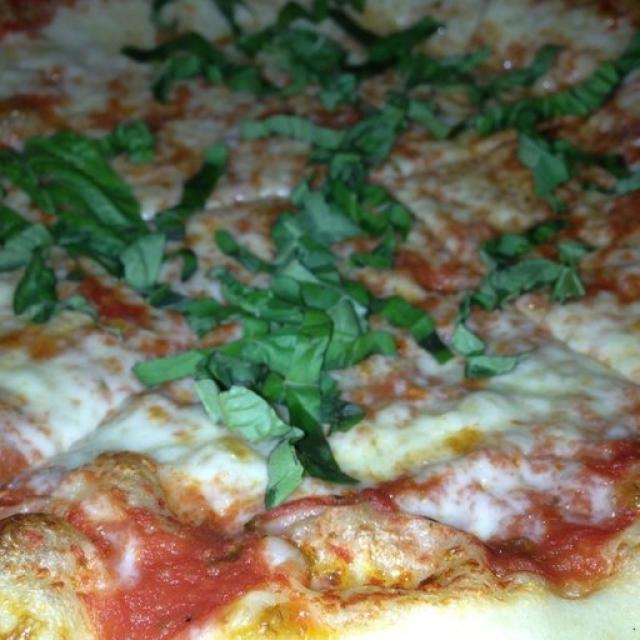Basil: (253, 126, 392, 282), (0, 130, 139, 285), (210, 304, 320, 481), (153, 35, 376, 116), (396, 57, 598, 122), (478, 232, 582, 305), (150, 162, 230, 256), (329, 291, 427, 358), (520, 131, 580, 193), (10, 263, 60, 326)
Cheese: (356, 388, 601, 516), (41, 362, 186, 488), (21, 5, 117, 109), (432, 0, 618, 29)
Pizza: (0, 0, 640, 640)
